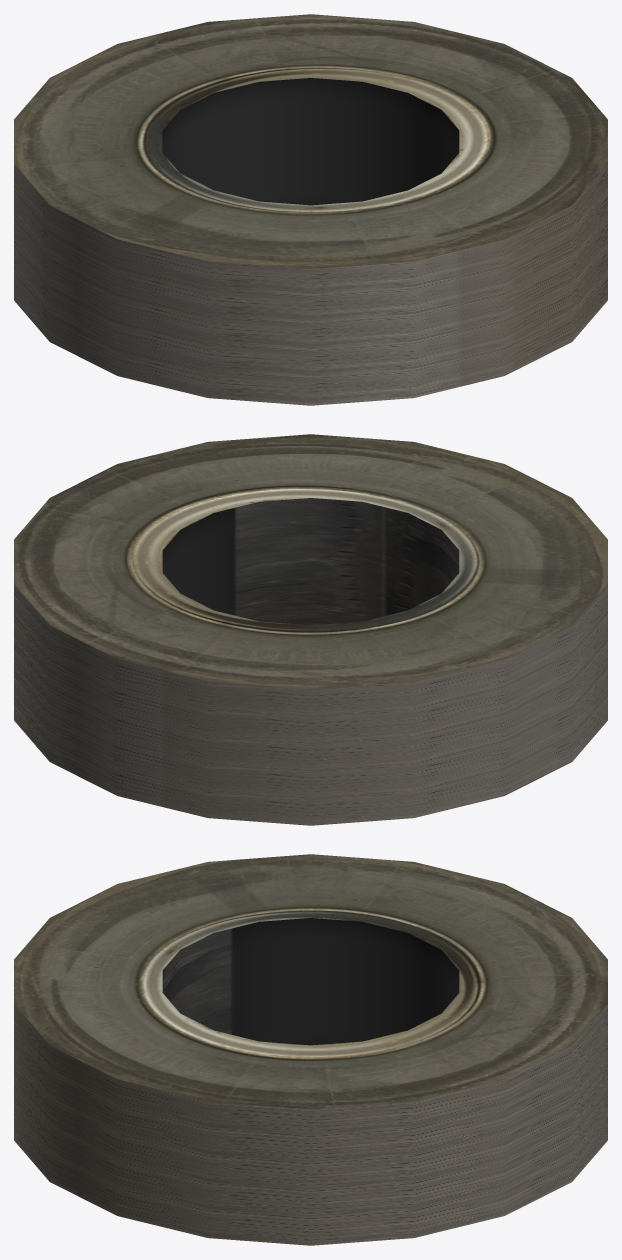
Rendered from TireSingle.FBX.
3 renders of one model, top to bottom at view 1: azimuth 30°, elevation 25°; view 2: azimuth 150°, elevation 25°; view 3: azimuth 270°, elevation 25°, orthographic.
Visible parts, largest first — view 1: tire1; view 2: tire1; view 3: tire1.
Part boxes in pixels (<box>): tire1: <box>14,14,607,405</box>; tire1: <box>14,434,607,825</box>; tire1: <box>14,854,607,1245</box>.
Size of the model in its own units: 1.6 by 0.4 by 1.58.
